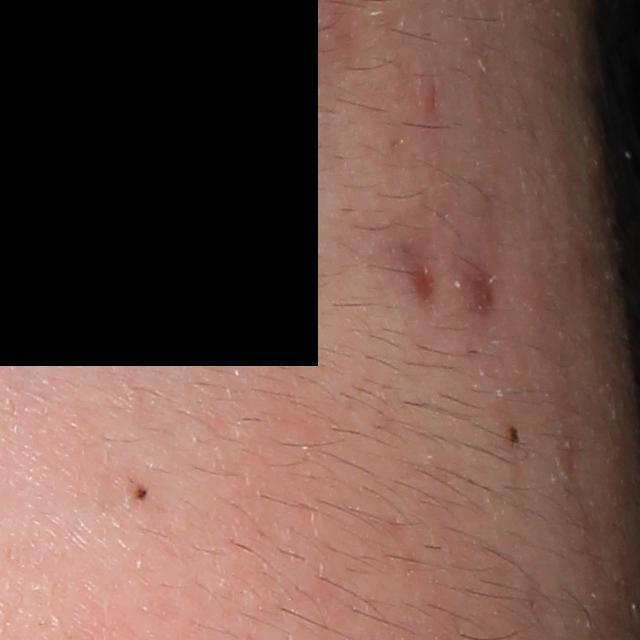nevus: (134, 481, 152, 505), (507, 424, 524, 448)
papule: (412, 76, 441, 119)
